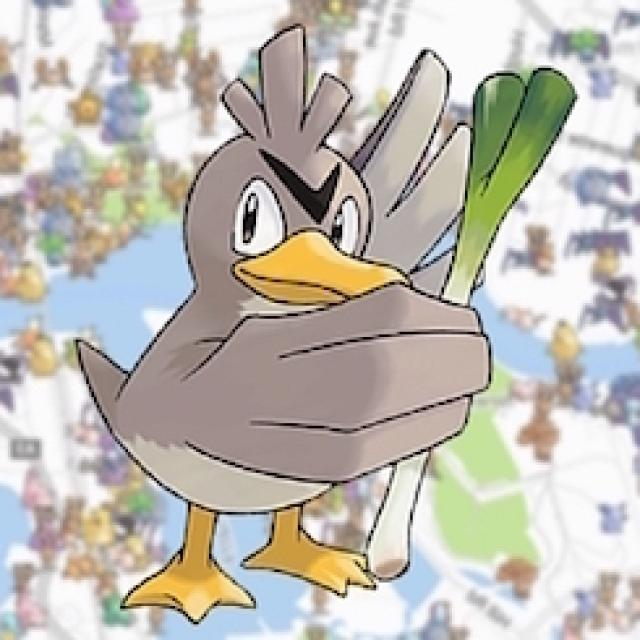Farfetchd: (125, 41, 511, 593)
